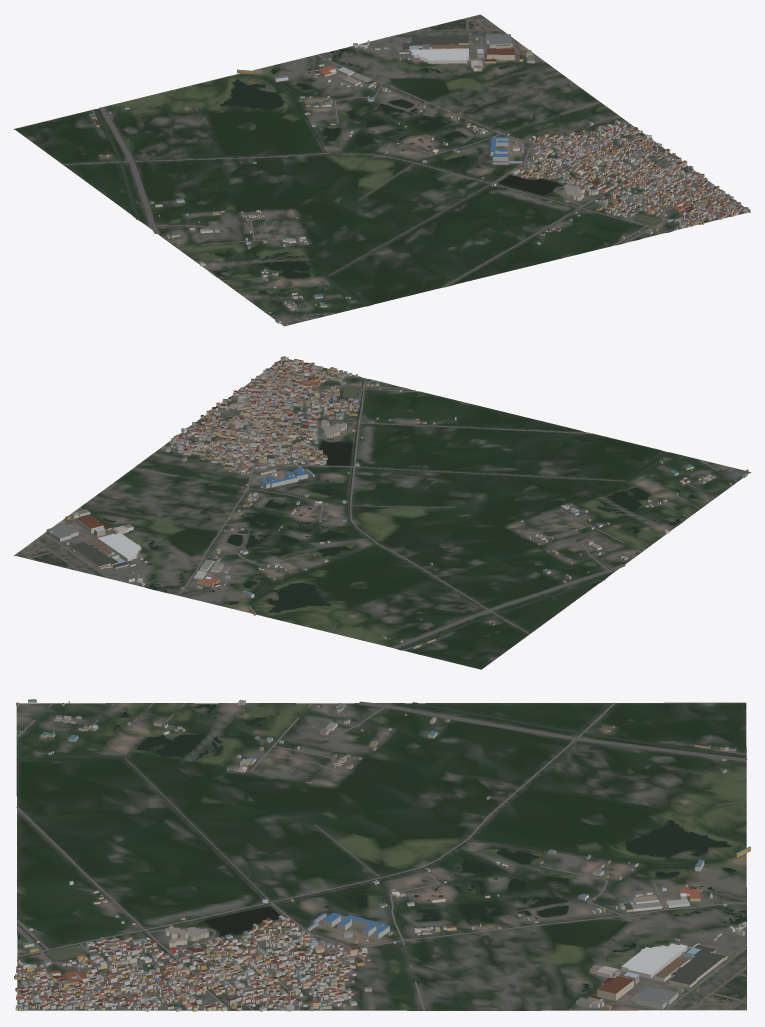
The picture shows the model from 3 angles, top to bottom: view 1: azimuth 30°, elevation 25°; view 2: azimuth 150°, elevation 25°; view 3: azimuth 270°, elevation 25°; orthographic projection. The views are drawn at different scales.
Parts seen in each view (by area): view 1: ground, buildings, water, roads; view 2: ground, buildings, water, roads; view 3: ground, buildings, water, roads.
Part boxes in pixels (left/top/right/bottom): ground: left=14, top=14, right=750, bottom=326; buildings: left=89, top=33, right=750, bottom=325; water: left=93, top=48, right=670, bottom=305; roads: left=63, top=16, right=743, bottom=316; ground: left=14, top=359, right=750, bottom=669; buildings: left=46, top=356, right=748, bottom=649; water: left=103, top=378, right=696, bottom=650; roads: left=19, top=360, right=737, bottom=650; ground: left=16, top=702, right=746, bottom=1010; buildings: left=14, top=699, right=750, bottom=1011; water: left=16, top=702, right=746, bottom=1010; roads: left=16, top=701, right=747, bottom=1010.
Size of the model in its own units: 1414 by 20.17 by 1416.
